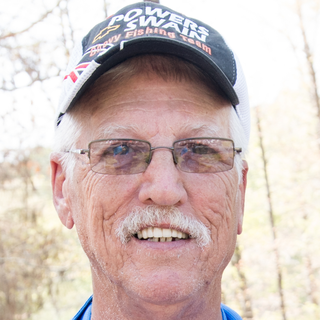eye: (177, 139, 222, 161), (97, 141, 141, 161)
